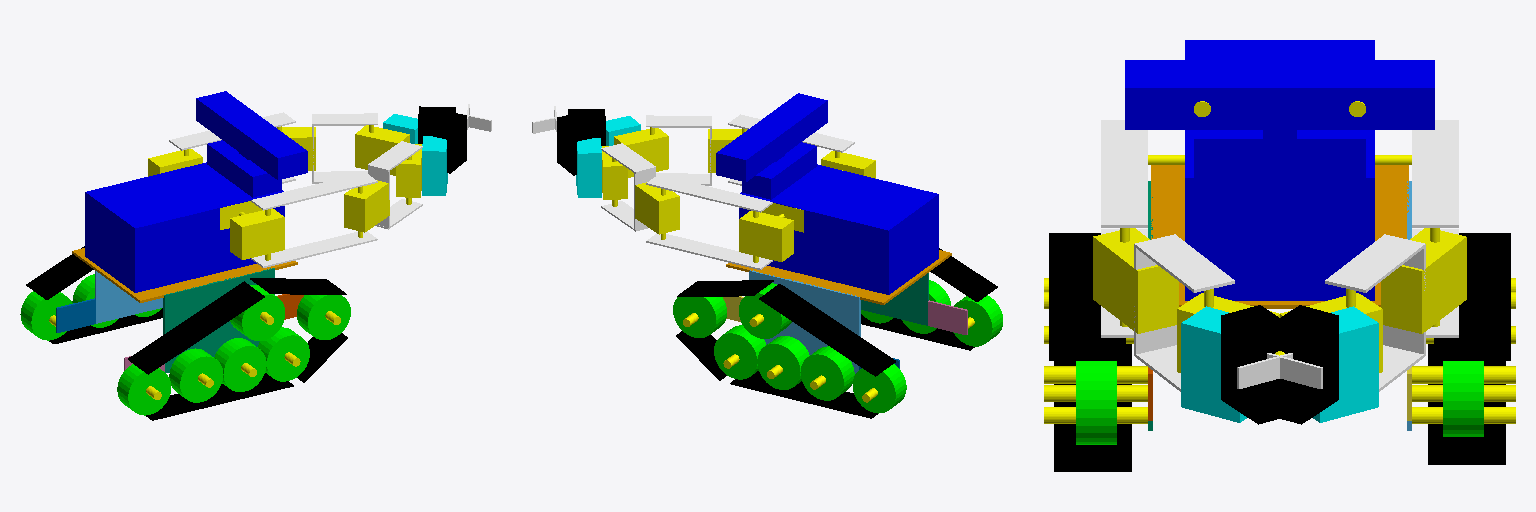
--- Render facts (derived) ---
Views: 3 orthographic renders of the robot side by side, from view 1: azimuth 30°, elevation 25°; view 2: azimuth 150°, elevation 25°; view 3: azimuth 270°, elevation 25°.
Robot: diego1 — 83 links, 82 joints (10 revolute, 12 continuous, 60 fixed); root link base_link; default pose: all joints at 0.
Links seen in each view (by area): view 1: body, xtion_camera, caterpilar_right2, right_leg, right_shoulder_stevo_lift, xtion_camera_base, tyer_slave4_right, tyer_slave3_right, tyer_slave5_right, tyer_slave1_right, right_arm_stevo, tyer_slave2_right (+25 smaller); view 2: body, xtion_camera, caterpilar_left2, left_leg, left_shoulder_stevo_lift, xtion_camera_base, tyer_slave4_left, tyer_slave3_left, left_arm_stevo, tyer_slave2_left, tyer_slave5_left, base_link (+25 smaller); view 3: body, xtion_camera, xtion_camera_base, right_arm_stevo, left_arm_stevo, caterpilar_left1, caterpilar_right1, base_link, left_hand_run_stevo, right_hand_run_stevo, left_big_arm_up, right_big_arm_up (+28 smaller).
Boxes of the visible links, bbox=[...] form: body: bbox=[85, 162, 284, 292]; xtion_camera: bbox=[196, 91, 307, 179]; caterpilar_right2: bbox=[128, 281, 264, 374]; right_leg: bbox=[163, 268, 274, 372]; right_shoulder_stevo_lift: bbox=[230, 208, 284, 259]; xtion_camera_base: bbox=[207, 140, 281, 197]; tyer_slave4_right: bbox=[169, 348, 222, 402]; tyer_slave3_right: bbox=[214, 338, 266, 391]; tyer_slave5_right: bbox=[117, 364, 170, 415]; tyer_slave1_right: bbox=[297, 295, 350, 339]; right_arm_stevo: bbox=[344, 180, 389, 232]; tyer_slave2_right: bbox=[258, 327, 309, 381]; body: bbox=[739, 164, 938, 294]; xtion_camera: bbox=[716, 93, 827, 181]; caterpilar_left2: bbox=[759, 284, 895, 376]; left_leg: bbox=[749, 270, 860, 373]; left_shoulder_stevo_lift: bbox=[739, 211, 793, 261]; xtion_camera_base: bbox=[742, 142, 816, 199]; tyer_slave4_left: bbox=[801, 346, 854, 400]; tyer_slave3_left: bbox=[757, 336, 809, 389]; left_arm_stevo: bbox=[635, 182, 679, 234]; tyer_slave2_left: bbox=[714, 325, 765, 379]; tyer_slave5_left: bbox=[853, 364, 906, 413]; base_link: bbox=[726, 250, 951, 304]; body: bbox=[1185, 40, 1374, 300]; xtion_camera: bbox=[1125, 60, 1434, 129]; xtion_camera_base: bbox=[1194, 130, 1365, 177]; right_arm_stevo: bbox=[1093, 228, 1178, 333]; left_arm_stevo: bbox=[1381, 228, 1466, 333]; caterpilar_left1: bbox=[1434, 250, 1510, 360]; caterpilar_right1: bbox=[1049, 250, 1125, 360]; base_link: bbox=[1151, 165, 1408, 308]; left_hand_run_stevo: bbox=[1221, 305, 1296, 424]; right_hand_run_stevo: bbox=[1280, 305, 1338, 424]; left_big_arm_up: bbox=[1412, 120, 1458, 227]; right_big_arm_up: bbox=[1101, 120, 1147, 227].
Size in the robot's own frame: 0.5162 by 0.273 by 0.2598 metres.
Geometry: primitives only (box / cylinder / sphere), no mesh files.

robot.urdf — diego1:
<?xml version="1.0"?>
<robot name="diego1">
<!-- base_link -->
  <link name="base_link">
    <visual>
      <geometry>
        <box size="0.20 .15 .003"/>
      </geometry>
    </visual>
  </link>

<!-- left_leg -->
<link name="left_leg"> 
    <visual>
      <geometry>
        <box size="0.14 .003 .095"/>
      </geometry>
     </visual>
  </link>

  <joint name="base_to_left_leg" type="fixed"> 
    <parent link="base_link"/>
    <child link="left_leg"/>
    <origin xyz="0.0 0.075 -0.046"/> 
  </joint>

<!-- right_leg -->
  <link name="right_leg"> 
    <visual>
      <geometry>
        <box size="0.14 .003 .095"/>
      </geometry>
     </visual>
  </link>

  <joint name="base_to_right_leg" type="fixed">
    <parent link="base_link"/>
    <child link="right_leg"/>
    <origin xyz="0.0 -0.075 -0.046"/> 
  </joint>  

<!-- leg_fix_dd -->
  <link name="left_leg_front">
    <visual>
      <geometry>
        <box size="0.05 .003 .03"/>
      </geometry>
     </visual>
  </link>

  <joint name="base_to_left_leg_front" type="fixed">
    <parent link="left_leg"/>
    <child link="left_leg_front"/>
    <origin xyz="0.095 0.0 -0.0025"/>
  </joint>

  <link name="left_leg_back">
    <visual>
      <geometry>
        <box size="0.05 .003 .03"/>
      </geometry>
     </visual>
  </link>

  <joint name="base_to_left_leg_back" type="fixed">
    <parent link="left_leg"/>
    <child link="left_leg_back"/>
    <origin xyz="-0.095 0.0 -0.0325"/>
  </joint>

  <link name="right_leg_front">
    <visual>
      <geometry>
        <box size="0.05 .003 .03"/>
      </geometry>
     </visual>
  </link>

  <joint name="base_to_right_leg_front" type="fixed">
    <parent link="right_leg"/>
    <child link="right_leg_front"/>
    <origin xyz="0.095 0.0 -0.0025"/>
  </joint>

  <link name="right_leg_back">
    <visual>
      <geometry>
        <box size="0.05 .003 .03"/>
      </geometry>
     </visual>
  </link>

  <joint name="base_to_right_leg_back" type="fixed">
    <parent link="right_leg"/>
    <child link="right_leg_back"/>
    <origin xyz="-0.095 0.0 -0.0325"/>
  </joint>


<!-- master_right_axis -->
 <link name="tyer_master_right_axis">
    <visual>
      <geometry>
       <cylinder length=".06" radius="0.005"></cylinder>
      </geometry>
      <material name="yellow">
          <color rgba="1 1 0 1"/>
      </material>  
    </visual>
  </link>

  <joint name="right_leg_to_master_right_axix" type="fixed">
    <axis xyz="0 0 1"/> 
    <parent link="right_leg"/>
    <child link="tyer_master_right_axis"/>
    <origin rpy="1.57075 0 0" xyz="0.03 -0.0315 0.0175"/>
    <limit effort="100" velocity="100"/> 
    <joint_properties damping="0.0" friction="0.0"/>
  </joint>

<!-- master_left_axis -->
  <link name="tyer_master_left_axis">
    <visual>
      <geometry>
       <cylinder length=".06" radius="0.005"></cylinder>
      </geometry>
      <material name="yellow">
          <color rgba="1 1 0 1"/>
      </material>  
    </visual>
  </link>

  <joint name="left_leg_to_master_left_axis" type="fixed">
    <axis xyz="0 0 1"/> 
    <parent link="left_leg"/>
    <child link="tyer_master_left_axis"/>
    <origin rpy="1.57075 0 0" xyz="0.03 0.0315 0.0175"/>
    <limit effort="100" velocity="100"/> 
    <joint_properties damping="0.0" friction="0.0"/>
  </joint>

<!-- master_right_motor -->
 <link name="tyer_master_right_motor">
    <visual>
      <geometry>
       <cylinder length=".068" radius="0.0075"></cylinder>
      </geometry>
      <material name="black">
          <color rgba="0 0 0 1"/>
      </material>  
    </visual>
  </link>

  <joint name="right_leg_to_master_right_motor" type="fixed">
    <axis xyz="0 0 1"/> 
    <parent link="right_leg"/>
    <child link="tyer_master_right_motor"/>
    <origin rpy="1.57075 0 0" xyz="0.03 0.0315 0.0175"/>
    <limit effort="100" velocity="100"/> 
    <joint_properties damping="0.0" friction="0.0"/>
  </joint>

<!-- master_left_motor -->
  <link name="tyer_master_left_motor">
    <visual>
      <geometry>
       <cylinder length=".06" radius="0.0075"></cylinder>
      </geometry>
      <material name="black">
          <color rgba="0 0 0 1"/>
      </material>  
    </visual>
  </link>

  <joint name="left_leg_to_master_left_motor" type="fixed">
    <axis xyz="0 0 1"/> 
    <parent link="left_leg"/>
    <child link="tyer_master_left_motor"/>
    <origin rpy="1.57075 0 0" xyz="0.03 -0.0315 0.0175"/>
    <limit effort="100" velocity="100"/> 
    <joint_properties damping="0.0" friction="0.0"/>
  </joint>


<link name="tyer_slave_right_axis1">
    <visual>
      <geometry>
       <cylinder length=".06" radius="0.005"></cylinder>
      </geometry>
      <material name="yellow">
          <color rgba="1 1 0 1"/>
      </material>  
    </visual>
  </link>

  <joint name="right_leg_to_slave_right_axix1" type="continuous">
    <axis xyz="0 0 1"/> 
    <parent link="right_leg_front"/>
    <child link="tyer_slave_right_axis1"/>
    <origin rpy="1.57075 0 0" xyz="0.02 -0.0315 0.0"/>
    <limit effort="100" velocity="100"/> 
    <joint_properties damping="0.0" friction="0.0"/>
  </joint>

  <link name="tyer_slave_right_axis2">
    <visual>
      <geometry>
       <cylinder length=".06" radius="0.005"></cylinder>
      </geometry>
      <material name="yellow">
          <color rgba="1 1 0 1"/>
      </material>  
    </visual>
  </link>

  <joint name="right_leg_to_slave_right_axix2" type="continuous">
    <axis xyz="0 0 1"/> 
    <parent link="right_leg"/>
    <child link="tyer_slave_right_axis2"/>
    <origin rpy="1.57075 0 0" xyz="0.063 -0.0315 -0.0405"/>
    <limit effort="100" velocity="100"/> 
    <joint_properties damping="0.0" friction="0.0"/>
  </joint>

  <link name="tyer_slave_right_axis3">
    <visual>
      <geometry>
       <cylinder length=".06" radius="0.005"></cylinder>
      </geometry>
      <material name="yellow">
          <color rgba="1 1 0 1"/>
      </material>  
    </visual>
  </link>

  <joint name="right_leg_to_slave_right_axix3" type="continuous">
    <axis xyz="0 0 1"/> 
    <parent link="right_leg"/>
    <child link="tyer_slave_right_axis3"/>
    <origin rpy="1.57075 0 0" xyz="0.008 -0.0315 -0.0405"/>
    <limit effort="100" velocity="100"/> 
    <joint_properties damping="0.0" friction="0.0"/>
  </joint>

  <link name="tyer_slave_right_axis4">
    <visual>
      <geometry>
       <cylinder length=".06" radius="0.005"></cylinder>
      </geometry>
      <material name="yellow">
          <color rgba="1 1 0 1"/>
      </material>  
    </visual>
  </link>

  <joint name="right_leg_to_slave_right_axix4" type="continuous">
    <axis xyz="0 0 1"/> 
    <parent link="right_leg"/>
    <child link="tyer_slave_right_axis4"/>
    <origin rpy="1.57075 0 0" xyz="-0.047 -0.0315 -0.0405"/>
    <limit effort="100" velocity="100"/> 
    <joint_properties damping="0.0" friction="0.0"/>
  </joint>  

  <link name="tyer_slave_right_axis5">
    <visual>
      <geometry>
       <cylinder length=".06" radius="0.005"></cylinder>
      </geometry>
      <material name="yellow">
          <color rgba="1 1 0 1"/>
      </material>  
    </visual>
  </link>

  <joint name="right_leg_to_slave_right_axix5" type="continuous">
    <axis xyz="0 0 1"/> 
    <parent link="right_leg_back"/>
    <child link="tyer_slave_right_axis5"/>
    <origin rpy="1.57075 0 0" xyz="-0.018 -0.0315 -0.008"/>
    <limit effort="100" velocity="100"/> 
    <joint_properties damping="0.0" friction="0.0"/>
  </joint>    

  <link name="tyer_slave_left_axis1">
    <visual>
      <geometry>
       <cylinder length=".06" radius="0.005"></cylinder>
      </geometry>
      <material name="yellow">
          <color rgba="1 1 0 1"/>
      </material>  
    </visual>
  </link>

  <joint name="right_leg_to_slave_left_axix1" type="continuous">
    <axis xyz="0 0 1"/> 
    <parent link="left_leg_front"/>
    <child link="tyer_slave_left_axis1"/>
    <origin rpy="1.57075 0 0" xyz="0.02 0.0315 0.0"/>
    <limit effort="100" velocity="100"/> 
    <joint_properties damping="0.0" friction="0.0"/>
  </joint>

  <link name="tyer_slave_left_axis2">
    <visual>
      <geometry>
       <cylinder length=".06" radius="0.005"></cylinder>
      </geometry>
      <material name="yellow">
          <color rgba="1 1 0 1"/>
      </material>  
    </visual>
  </link>

  <joint name="right_leg_to_slave_left_axix2" type="continuous">
    <axis xyz="0 0 1"/> 
    <parent link="left_leg"/>
    <child link="tyer_slave_left_axis2"/>
    <origin rpy="1.57075 0 0" xyz="0.063 0.0315 -0.0405"/>
    <limit effort="100" velocity="100"/> 
    <joint_properties damping="0.0" friction="0.0"/>
  </joint>

  <link name="tyer_slave_left_axis3">
    <visual>
      <geometry>
       <cylinder length=".06" radius="0.005"></cylinder>
      </geometry>
      <material name="yellow">
          <color rgba="1 1 0 1"/>
      </material>  
    </visual>
  </link>

  <joint name="right_leg_to_slave_left_axix3" type="continuous">
    <axis xyz="0 0 1"/> 
    <parent link="left_leg"/>
    <child link="tyer_slave_left_axis3"/>
    <origin rpy="1.57075 0 0" xyz="0.008 0.0315 -0.0405"/>
    <limit effort="100" velocity="100"/> 
    <joint_properties damping="0.0" friction="0.0"/>
  </joint>

  <link name="tyer_slave_left_axis4">
    <visual>
      <geometry>
       <cylinder length=".06" radius="0.005"></cylinder>
      </geometry>
      <material name="yellow">
          <color rgba="1 1 0 1"/>
      </material>  
    </visual>
  </link>

  <joint name="right_leg_to_slave_left_axix4" type="continuous">
    <axis xyz="0 0 1"/> 
    <parent link="left_leg"/>
    <child link="tyer_slave_left_axis4"/>
    <origin rpy="1.57075 0 0" xyz="-0.047 0.0315 -0.0405"/>
    <limit effort="100" velocity="100"/> 
    <joint_properties damping="0.0" friction="0.0"/>
  </joint>    

  <link name="tyer_slave_left_axis5">
    <visual>
      <geometry>
       <cylinder length=".06" radius="0.005"></cylinder>
      </geometry>
      <material name="yellow">
          <color rgba="1 1 0 1"/>
      </material>  
    </visual>
  </link>

  <joint name="right_leg_to_slave_left_axix5" type="continuous">
    <axis xyz="0 0 1"/> 
    <parent link="left_leg_back"/>
    <child link="tyer_slave_left_axis5"/>
    <origin rpy="1.57075 0 0" xyz="-0.018 0.0315 -0.008"/>
    <limit effort="100" velocity="100"/> 
    <joint_properties damping="0.0" friction="0.0"/>
  </joint>  



  <link name="tyer_master_left">
    <visual>
      <geometry>
       <cylinder length=".03" radius="0.0275"></cylinder>
      </geometry>
      <material name="green">
          <color rgba="0 1 0 1"/>
      </material>  
    </visual>
  </link>

  <joint name="right_leg_to_master_left" type="fixed">
    <axis xyz="0 0 1"/> 
    <parent link="tyer_master_left_axis"/>
    <child link="tyer_master_left"/>
    <origin rpy="0 0 0" xyz="0.0 0.0025 0.00"/>
    <limit effort="100" velocity="100"/> 
    <joint_properties damping="0.0" friction="0.0"/>
  </joint>  

  <link name="tyer_master_right">
    <visual>
      <geometry>
       <cylinder length=".03" radius="0.0275"></cylinder>
      </geometry>
      <material name="green">
          <color rgba="0 1 0 1"/>
      </material>  
    </visual>
  </link>

  <joint name="right_leg_to_master_right" type="fixed">
    <axis xyz="0 0 1"/> 
    <parent link="tyer_master_right_axis"/>
    <child link="tyer_master_right"/>
    <origin rpy="0 0 0" xyz="0.0 -0.0025 0.00"/>
    <limit effort="100" velocity="100"/> 
    <joint_properties damping="0.0" friction="0.0"/>
  </joint>



 <link name="tyer_slave1_left">
    <visual>
      <geometry>
       <cylinder length=".024" radius="0.0275"></cylinder>
      </geometry>
      <material name="green">
          <color rgba="0 1 0 1"/>
      </material>  
    </visual>
  </link>

  <joint name="right_leg_to_slave1_left" type="fixed">
    <axis xyz="0 0 1"/> 
    <parent link="tyer_slave_left_axis1"/>
    <child link="tyer_slave1_left"/>
    <origin rpy="0 0 0" xyz="0.0 0.0025 0.00"/>
    <limit effort="100" velocity="100"/> 
    <joint_properties damping="0.0" friction="0.0"/>
  </joint>         

  <link name="tyer_slave2_left">
    <visual>
      <geometry>
       <cylinder length=".024" radius="0.0275"></cylinder>
      </geometry>
      <material name="green">
          <color rgba="0 1 0 1"/>
      </material>  
    </visual>
  </link>

  <joint name="right_leg_to_slave2_left" type="fixed">
    <axis xyz="0 0 1"/> 
    <parent link="tyer_slave_left_axis2"/>
    <child link="tyer_slave2_left"/>
    <origin rpy="0 0 0" xyz="0.0 0.0025 0.00"/>
    <limit effort="100" velocity="100"/> 
    <joint_properties damping="0.0" friction="0.0"/>
  </joint>  

  <link name="tyer_slave3_left">
    <visual>
      <geometry>
       <cylinder length=".024" radius="0.0275"></cylinder>
      </geometry>
      <material name="green">
          <color rgba="0 1 0 1"/>
      </material>  
    </visual>
  </link>

  <joint name="right_leg_to_slave3_left" type="fixed">
    <axis xyz="0 0 1"/> 
    <parent link="tyer_slave_left_axis3"/>
    <child link="tyer_slave3_left"/>
    <origin rpy="0 0 0" xyz="0.0 0.0025 0.00"/>
    <limit effort="100" velocity="100"/> 
    <joint_properties damping="0.0" friction="0.0"/>
  </joint>   

  <link name="tyer_slave4_left">
    <visual>
      <geometry>
       <cylinder length=".024" radius="0.0275"></cylinder>
      </geometry>
      <material name="green">
          <color rgba="0 1 0 1"/>
      </material>  
    </visual>
  </link>

  <joint name="right_leg_to_slave4_left" type="fixed">
    <axis xyz="0 0 1"/> 
    <parent link="tyer_slave_left_axis4"/>
    <child link="tyer_slave4_left"/>
    <origin rpy="0 0 0" xyz="0.0 0.0025 0.00"/>
    <limit effort="100" velocity="100"/> 
    <joint_properties damping="0.0" friction="0.0"/>
  </joint>    

  <link name="tyer_slave5_left">
    <visual>
      <geometry>
       <cylinder length=".024" radius="0.0275"></cylinder>
      </geometry>
      <material name="green">
          <color rgba="0 1 0 1"/>
      </material>  
    </visual>
  </link>

  <joint name="right_leg_to_slave5_left" type="fixed">
    <axis xyz="0 0 1"/> 
    <parent link="tyer_slave_left_axis5"/>
    <child link="tyer_slave5_left"/>
    <origin rpy="0 0 0" xyz="0.0 0.0025 0.00"/>
    <limit effort="100" velocity="100"/> 
    <joint_properties damping="0.0" friction="0.0"/>
  </joint>           

  <link name="tyer_slave1_right">
    <visual>
      <geometry>
       <cylinder length=".024" radius="0.0275"></cylinder>
      </geometry>
      <material name="green">
          <color rgba="0 1 0 1"/>
      </material>  
    </visual>
  </link>

  <joint name="right_leg_to_slave1_right" type="fixed">
    <axis xyz="0 0 1"/> 
    <parent link="tyer_slave_right_axis1"/>
    <child link="tyer_slave1_right"/>
    <origin rpy="0 0 0" xyz="0.0 -0.0025 0.00"/>
    <limit effort="100" velocity="100"/> 
    <joint_properties damping="0.0" friction="0.0"/>
  </joint>   

  <link name="tyer_slave2_right">
    <visual>
      <geometry>
       <cylinder length=".024" radius="0.0275"></cylinder>
      </geometry>
      <material name="green">
          <color rgba="0 1 0 1"/>
      </material>  
    </visual>
  </link>

  <joint name="right_leg_to_slave2_right" type="fixed">
    <axis xyz="0 0 1"/> 
    <parent link="tyer_slave_right_axis2"/>
    <child link="tyer_slave2_right"/>
    <origin rpy="0 0 0" xyz="0.0 -0.0025 0.00"/>
    <limit effort="100" velocity="100"/> 
    <joint_properties damping="0.0" friction="0.0"/>
  </joint>      


  <link name="tyer_slave3_right">
    <visual>
      <geometry>
       <cylinder length=".024" radius="0.0275"></cylinder>
      </geometry>
      <material name="green">
          <color rgba="0 1 0 1"/>
      </material>  
    </visual>
  </link>

  <joint name="right_leg_to_slave3_right" type="fixed">
    <axis xyz="0 0 1"/> 
    <parent link="tyer_slave_right_axis3"/>
    <child link="tyer_slave3_right"/>
    <origin rpy="0 0 0" xyz="0.0 -0.0025 0.00"/>
    <limit effort="100" velocity="100"/> 
    <joint_properties damping="0.0" friction="0.0"/>
  </joint>   

  <link name="tyer_slave4_right">
    <visual>
      <geometry>
       <cylinder length=".024" radius="0.0275"></cylinder>
      </geometry>
      <material name="green">
          <color rgba="0 1 0 1"/>
      </material>  
    </visual>
  </link>

  <joint name="right_leg_to_slave4_right" type="fixed">
    <axis xyz="0 0 1"/> 
    <parent link="tyer_slave_right_axis4"/>
    <child link="tyer_slave4_right"/>
    <origin rpy="0 0 0" xyz="0.0 -0.0025 0.00"/>
    <limit effort="100" velocity="100"/> 
    <joint_properties damping="0.0" friction="0.0"/>
  </joint>    

  <link name="tyer_slave5_right">
    <visual>
      <geometry>
       <cylinder length=".024" radius="0.0275"></cylinder>
      </geometry>
      <material name="green">
          <color rgba="0 1 0 1"/>
      </material>  
    </visual>
  </link>

  <joint name="right_leg_to_slave5_right" type="fixed">
    <axis xyz="0 0 1"/> 
    <parent link="tyer_slave_right_axis5"/>
    <child link="tyer_slave5_right"/>
    <origin rpy="0 0 0" xyz="0.0 -0.0025 0.00"/>
    <limit effort="100" velocity="100"/> 
    <joint_properties damping="0.0" friction="0.0"/>
  </joint>    


 <link name="caterpilar_left1">
    <visual>
      <geometry>
       <box size="0.10 .045 .0015"/>
      </geometry>
      <material name="black">
          <color rgba="0 0 0 1"/>
      </material>  
    </visual>
  </link>    

  <joint name="tyer_master_left_motor_to_caterpilar_left1" type="fixed">
    <parent link="tyer_master_left_motor"/>
    <child link="caterpilar_left1"/>
    <origin rpy="1.57075 0 -0.24178" xyz="0.05 0.02 -0.068"/>
    <limit effort="100" velocity="100"/> 
    <joint_properties damping="0.0" friction="0.0"/>
  </joint>  

  <link name="caterpilar_left2">
    <visual>
      <geometry>
       <box size="0.16 .045 .0015"/>
      </geometry>
      <material name="black">
          <color rgba="0 0 0 1"/>
      </material>  
    </visual>
  </link>    

  <joint name="tyer_master_left_motor_to_caterpilar_left2" type="fixed">
    <parent link="tyer_master_left_motor"/>
    <child link="caterpilar_left2"/>
    <origin rpy="1.57075 0 0.38178" xyz="-0.080 -0.00 -0.068"/>
    <limit effort="100" velocity="100"/> 
    <joint_properties damping="0.0" friction="0.0"/>
  </joint>    

  <link name="caterpilar_left3">
    <visual>
      <geometry>
       <box size="0.07 .045 .0015"/>
      </geometry>
      <material name="black">
          <color rgba="0 0 0 1"/>
      </material>  
    </visual>
  </link>    

  <joint name="tyer_master_left_motor_to_caterpilar_left3" type="fixed">
    <parent link="tyer_slave2_left"/>
    <child link="caterpilar_left3"/>
    <origin rpy="1.57075 0 0.64178" xyz="0.0405 -0.0065 -0.002"/>
    <limit effort="100" velocity="100"/> 
    <joint_properties damping="0.0" friction="0.0"/>
  </joint>  

  <link name="caterpilar_left4">
    <visual>
      <geometry>
       <box size="0.18 .045 .0015"/>
      </geometry>
      <material name="black">
          <color rgba="0 0 0 1"/>
      </material>  
    </visual>
  </link>    

  <joint name="tyer_master_left_motor_to_caterpilar_left4" type="fixed">
    <parent link="tyer_slave2_left"/>
    <child link="caterpilar_left4"/>
    <origin rpy="1.57075 0 0" xyz="-0.09 -0.028 -0.002"/>
    <limit effort="100" velocity="100"/> 
    <joint_properties damping="0.0" friction="0.0"/>
  </joint>    

  <link name="caterpilar_right1">
    <visual>
      <geometry>
       <box size="0.10 .045 .0015"/>
      </geometry>
      <material name="black">
          <color rgba="0 0 0 1"/>
      </material>  
    </visual>
  </link>    

  <joint name="tyer_master_left_motor_to_caterpilar_right1" type="fixed">
    <parent link="tyer_master_right_motor"/>
    <child link="caterpilar_right1"/>
    <origin rpy="1.57075 0 -0.24178" xyz="0.05 0.02 0.068"/>
    <limit effort="100" velocity="100"/> 
    <joint_properties damping="0.0" friction="0.0"/>
  </joint>  

  <link name="caterpilar_right2">
    <visual>
      <geometry>
       <box size="0.16 .045 .0015"/>
      </geometry>
      <material name="black">
          <color rgba="0 0 0 1"/>
      </material>  
    </visual>
  </link>    

  <joint name="tyer_master_left_motor_to_caterpilar_right2" type="fixed">
    <parent link="tyer_master_right_motor"/>
    <child link="caterpilar_right2"/>
    <origin rpy="1.57075 0 0.38178" xyz="-0.080 -0.00 0.068"/>
    <limit effort="100" velocity="100"/> 
    <joint_properties damping="0.0" friction="0.0"/>
  </joint>    

  <link name="caterpilar_right3">
    <visual>
      <geometry>
       <box size="0.07 .045 .0015"/>
      </geometry>
      <material name="black">
          <color rgba="0 0 0 1"/>
      </material>  
    </visual>
  </link>    

  <joint name="tyer_master_left_motor_to_caterpilar_right3" type="fixed">
    <parent link="tyer_slave2_right"/>
    <child link="caterpilar_right3"/>
    <origin rpy="1.57075 0 0.64178" xyz="0.0405 -0.0065 0.002"/>
    <limit effort="100" velocity="100"/> 
    <joint_properties damping="0.0" friction="0.0"/>
  </joint>  

  <link name="caterpilar_right4">
    <visual>
      <geometry>
       <box size="0.18 .045 .0015"/>
      </geometry>
      <material name="black">
          <color rgba="0 0 0 1"/>
      </material>  
    </visual>
  </link>    

  <joint name="tyer_master_left_motor_to_caterpilar_right4" type="fixed">
    <parent link="tyer_slave2_right"/>
    <child link="caterpilar_right4"/>
    <origin rpy="1.57075 0 0" xyz="-0.09 -0.028 0.002"/>
    <limit effort="100" velocity="100"/> 
    <joint_properties damping="0.0" friction="0.0"/>
  </joint>   




  <link name="body">
    <visual>
      <geometry>
       <box size="0.19 .11 .08"/>
      </geometry>
      <material name="blue">
          <color rgba="0 0 255 1"/>
      </material>  
    </visual>
  </link>  

  <joint name="base_to_body" type="fixed">
    <parent link="base_link"/>
    <child link="body"/>
    <origin xyz="0.0 0.0 0.04"/>
  </joint> 




<link name="xtion_camera_base">
    <visual>
      <geometry>
       <box size="0.038 .10 .025"/>
      </geometry>
      <material name="black">
          <color rgba="0 0 1 1"/>
      </material>  
    </visual>
  </link>  

  <joint name="body_to_xtion_camera_base" type="fixed">
    <parent link="body"/>
    <child link="xtion_camera_base"/>
    <origin xyz="0.076 0.0 0.0525"/>
  </joint>

  <link name="xtion_camera_base_neck">
    <visual>
      <geometry>
       <box size="0.020 .020 .020"/>
      </geometry>
      <material name="black">
          <color rgba="0 0 50 1"/>
      </material>  
    </visual>
  </link>  

  <joint name="xtion_camera_base_to_neck" type="fixed">
    <parent link="xtion_camera_base"/>
    <child link="xtion_camera_base_neck"/>
    <origin xyz="0.009 0.0 0.0125"/>
  </joint>   

  <link name="xtion_camera">
    <visual>
      <geometry>
       <box size="0.038 .18 .027"/>
      </geometry>
      <material name="black">
          <color rgba="0 0 1 1"/>
      </material>  
    </visual>
  </link>  

  <joint name="xtion_camera_base_neck_to_camera" type="fixed">
    <parent link="xtion_camera_base_neck"/>
    <child link="xtion_camera"/>
    <origin xyz="0.0 0.0 0.0235"/>
  </joint>      

  <link name="xtion_camera_eye_left">
    <visual>
      <geometry>
       <cylinder length=".002" radius="0.005"></cylinder>
      </geometry>
      <material name="yellow">
          <color rgba="1 1 0 1"/>
      </material>  
    </visual>
  </link>

  <joint name="xtion_camera_to_eye_left" type="fixed">
    <axis xyz="0 0 1"/> 
    <parent link="xtion_camera"/>
    <child link="xtion_camera_eye_left"/>
    <origin rpy="0 1.57075 0" xyz="0.0191 0.045 0.0"/>
    <limit effort="100" velocity="100"/> 
    <joint_properties damping="0.0" friction="0.0"/>
  </joint>   

  <link name="xtion_camera_eye_right">
    <visual>
      <geometry>
       <cylinder length=".002" radius="0.005"></cylinder>
      </geometry>
      <material name="yellow">
          <color rgba="1 1 0 1"/>
      </material>  
    </visual>
  </link>

  <joint name="xtion_camera_to_eye_right" type="fixed">
    <axis xyz="0 0 1"/> 
    <parent link="xtion_camera"/>
    <child link="xtion_camera_eye_right"/>
    <origin rpy="0 1.57075 0" xyz="0.0191 -0.045 0.0"/>
    <limit effort="100" velocity="100"/> 
    <joint_properties damping="0.0" friction="0.0"/>
  </joint>  

<!-- left_shoulder stevo-->
  <link name="left_shoulder_stevo">
    <visual>
      <geometry>
       <box size="0.054 .0403 .027"/>
      </geometry>
      <material name="black">
          <color rgba="1 1 0 1"/>
      </material>  
    </visual>
  </link> 

 <joint name="body_to_left_shoulder_stevo" type="fixed">
    <parent link="body"/>
    <child link="left_shoulder_stevo"/>
    <origin xyz="0.04 0.035 0.026"/>
  </joint>  

  <link name="left_shoulder_stevo_axis">
    <visual>
      <geometry>
       <cylinder length=".04" radius="0.0029"></cylinder>
      </geometry>
      <material name="yellow">
          <color rgba="1 1 0 1"/>
      </material>  
    </visual>
  </link>

  <joint name="left_shoulder_stevo_to_axis" type="revolute">
    <axis xyz="0 0 1"/> 
    <parent link="left_shoulder_stevo"/>
    <child link="left_shoulder_stevo_axis"/>
    <origin rpy="1.57075 0 0" xyz="0.0 0.027 0.0"/>
    <limit effort="100" velocity="100" lower="0" upper="3.1415926"/> 
    <joint_properties damping="0.0" friction="0.0"/>
  </joint>  

  <!-- righ_shoulder stevo 6-->
  <link name="right_shoulder_stevo">
    <visual>
      <geometry>
       <box size="0.054 .0403 .027"/>
      </geometry>
      <material name="black">
          <color rgba="1 1 0 1"/>
      </material>  
    </visual>
  </link> 

 <joint name="body_to_right_shoulder_stevo" type="fixed">
    <parent link="body"/>
    <child link="right_shoulder_stevo"/>
    <origin xyz="0.04 -0.035 0.026"/>
  </joint>  

  <link name="right_shoulder_stevo_axis">
    <visual>
      <geometry>
       <cylinder length=".04" radius="0.0029"></cylinder>
      </geometry>
      <material name="yellow">
          <color rgba="1 1 0 1"/>
      </material>  
    </visual>
  </link>

  <joint name="right_shoulder_stevo_to_axis" type="revolute">
    <axis xyz="0 0 1"/> 
    <parent link="right_shoulder_stevo"/>
    <child link="right_shoulder_stevo_axis"/>
    <origin rpy="1.57075 0 0" xyz="0.0 -0.027 0.0"/>
    <limit effort="100" velocity="100" lower="0" upper="3.1415926"/> 
    <joint_properties damping="0.0" friction="0.0"/>
  </joint> 


 <!-- left_shoulder stevo lift -->
  <link name="left_shoulder_stevo_lift">
    <visual>
      <geometry>
       <box size="0.054 .0403 .027"/>
      </geometry>
      <material name="black">
          <color rgba="1 1 0 1"/>
      </material>  
    </visual>
  </link> 

 <joint name="left_shoulder_stevo_axis_to_lift_stevo" type="fixed">
    <parent link="left_shoulder_stevo_axis"/>
    <child link="left_shoulder_stevo_lift"/>
    <origin xyz="0.0 -0.01015 -0.028"/>
  </joint>

  <link name="left_shoulder_stevo_lift_axis">
    <visual>
      <geometry>
       <cylinder length=".0704" radius="0.0029"></cylinder>
      </geometry>
      <material name="yellow">
          <color rgba="1 1 0 1"/>
      </material>  
    </visual>
  </link>

  <joint name="left_shoulder_stevo_lift_to_axis" type="continuous">
    <axis xyz="0 0 1"/> 
    <parent link="left_shoulder_stevo_lift"/>
    <child link="left_shoulder_stevo_lift_axis"/>
    <origin rpy="1.57075 0 0" xyz="0.0135 0.0 0.0"/>
    <limit effort="100" velocity="100"/> 
    <joint_properties damping="0.0" friction="0.0"/>
  </joint>     

    <!-- right_shoulder stevo lift-->
  <link name="right_shoulder_stevo_lift">
    <visual>
      <geometry>
       <box size="0.054 .0403 .027"/>
      </geometry>
      <material name="black">
          <color rgba="1 1 0 1"/>
      </material>  
    </visual>
  </link> 

 <joint name="right_shoulder_stevo_axis_to_lift_stevo" type="fixed">
    <parent link="right_shoulder_stevo_axis"/>
    <child link="right_shoulder_stevo_lift"/>
    <origin xyz="0.0 -0.01015 0.028"/>
  </joint>

  <link name="right_shoulder_stevo_lift_axis">
    <visual>
      <geometry>
       <cylinder length=".0704" radius="0.0029"></cylinder>
      </geometry>
      <material name="yellow">
          <color rgba="1 1 0 1"/>
      </material>  
    </visual>
  </link>

  <joint name="right_shoulder_stevo_lift_to_axis" type="continuous">
    <axis xyz="0 0 1"/> 
    <parent link="right_shoulder_stevo_lift"/>
    <child link="right_shoulder_stevo_lift_axis"/>
    <origin rpy="1.57075 0 0" xyz="0.0135 0.0 0.0"/>
    <limit effort="100" velocity="100"/> 
    <joint_properties damping="0.0" friction="0.0"/>
  </joint>   



 <!-- left_big arm -->
  <link name="left_big_arm_up">
    <visual>
      <geometry>
       <box size="0.145 .027 .002"/>
      </geometry>
      <material name="sliver">
          <color rgba="223 223 223 1"/>
      </material>  
    </visual>
  </link> 

 <joint name="left_shoulder_stevo_lift_axis_to_left_big_arm" type="fixed">
    <parent link="left_shoulder_stevo_lift_axis"/>
    <child link="left_big_arm_up"/>
    <origin xyz="0.059 0.0 -0.035"/>
  </joint>  

  <link name="left_big_arm_down">
    <visual>
      <geometry>
       <box size="0.145 .027 .002"/>
      </geometry>
      <material name="sliver">
          <color rgba="223 223 223 1"/>
      </material>  
    </visual>
  </link> 

 <joint name="left_big_arm_up_to_left_big_arm_down" type="fixed">
    <parent link="left_big_arm_up"/>
    <child link="left_big_arm_down"/>
    <origin xyz="0.0 0.0 0.07"/>
  </joint>   

    <!-- right_big arm -->
  <link name="right_big_arm_up">
    <visual>
      <geometry>
       <box size="0.145 .027 .002"/>
      </geometry>
      <material name="sliver">
          <color rgba="223 223 223 1"/>
      </material>  
    </visual>
  </link> 

 <joint name="right_shoulder_stevo_lift_axis_to_right_big_arm" type="fixed">
    <parent link="right_shoulder_stevo_lift_axis"/>
    <child link="right_big_arm_up"/>
    <origin xyz="0.059 0.0 -0.035"/>
  </joint>  

  <link name="right_big_arm_down">
    <visual>
      <geometry>
       <box size="0.145 .027 .002"/>
      </geometry>
      <material name="sliver">
          <color rgba="223 223 223 1"/>
      </material>  
    </visual>
  </link> 

 <joint name="right_big_arm_up_to_right_big_arm_down" type="fixed">
    <parent link="right_big_arm_up"/>
    <child link="right_big_arm_down"/>
    <origin xyz="0.0 0.0 0.07"/>
  </joint>     



 <!--left arm stevo-->
  <link name="left_arm_stevo_axis">
    <visual>
      <geometry>
       <cylinder length=".0704" radius="0.0029"></cylinder>
      </geometry>
      <material name="yellow">
          <color rgba="1 1 0 1"/>
      </material>  
    </visual>
  </link>

  <joint name="left_big_arm_up_to_axis" type="revolute">
    <axis xyz="0 0 1"/> 
    <parent link="left_big_arm_up"/>
    <child link="left_arm_stevo_axis"/>
    <origin rpy="0 0 0.5" xyz="0.059 0.0 0.0352"/>
    <limit effort="100" velocity="100" lower="0" upper="3.1415926"/> 
    <joint_properties damping="0.0" friction="0.0"/>
  </joint>  

  <link name="left_arm_stevo">
    <visual>
      <geometry>
       <box size="0.054 .027 .0403"/>
      </geometry>
      <material name="black">
          <color rgba="1 1 0 1"/>
      </material>  
    </visual>
  </link> 

 <joint name="left_big_arm_up_to_axis_to_left_arm_stevo" type="fixed">
    <parent link="left_arm_stevo_axis"/>
    <child link="left_arm_stevo"/>
    <origin xyz="0.0135 0.0 0.0"/>
  </joint>  

  <!--right arm stevo-->
  <link name="right_arm_stevo_axis">
    <visual>
      <geometry>
       <cylinder length=".0704" radius="0.0029"></cylinder>
      </geometry>
      <material name="yellow">
          <color rgba="1 1 0 1"/>
      </material>  
    </visual>
  </link>

  <joint name="right_big_arm_up_to_axis" type="revolute">
    <axis xyz="0 0 1"/> 
    <parent link="right_big_arm_up"/>
    <child link="right_arm_stevo_axis"/>
    <origin rpy="0 0 -0.5" xyz="0.059 0.0 0.0352"/>
    <limit effort="100" velocity="100" lower="0" upper="3.1415926"/> 
    <joint_properties damping="0.0" friction="0.0"/>
  </joint>  

  <link name="right_arm_stevo">
    <visual>
      <geometry>
       <box size="0.054 .027 .0403"/>
      </geometry>
      <material name="black">
          <color rgba="1 1 0 1"/>
      </material>  
    </visual>
  </link> 

 <joint name="right_big_arm_up_to_axis_to_right_arm_stevo" type="fixed">
    <parent link="right_arm_stevo_axis"/>
    <child link="right_arm_stevo"/>
    <origin xyz="0.0135 0.0 0.0"/>
  </joint>    


    <!-- left_small arm -->
  <link name="left_small_arm_up">
    <visual>
      <geometry>
       <box size="0.0725 .027 .002"/>
      </geometry>
      <material name="sliver">
          <color rgba="223 223 223 1"/>
      </material>  
    </visual>
  </link> 

 <joint name="left_arm_stevo_to_left_small_arm_up" type="fixed">
    <parent link="left_arm_stevo"/>
    <child link="left_small_arm_up"/>
    <origin xyz="0.059 0.0 -0.035"/>
  </joint>  

  <link name="left_small_arm_down">
    <visual>
      <geometry>
       <box size="0.0725 .027 .002"/>
      </geometry>
      <material name="sliver">
          <color rgba="223 223 223 1"/>
      </material>  
    </visual>
  </link> 

 <joint name="left_small_arm_up_to_left_small_arm_down" type="fixed">
    <parent link="left_small_arm_up"/>
    <child link="left_small_arm_down"/>
    <origin xyz="0.0 0.0 0.07"/>
  </joint>  

  <link name="left_small_arm_middle">
    <visual>
      <geometry>
       <box size="0.07 .027 .002"/>
      </geometry>
      <material name="sliver">
          <color rgba="223 223 223 1"/>
      </material>  
    </visual>
  </link> 

 <joint name="left_small_arm_up_to_left_small_arm_middle" type="fixed">
    <parent link="left_small_arm_up"/>
    <child link="left_small_arm_middle"/>
    <origin rpy="0 1.57075 0" xyz="-0.035 0.0 0.035"/>
  </joint> 

    <!-- right_small arm -->
  <link name="right_small_arm_up">
    <visual>
      <geometry>
       <box size="0.0725 .027 .002"/>
      </geometry>
      <material name="sliver">
          <color rgba="223 223 223 1"/>
      </material>  
    </visual>
  </link> 

 <joint name="right_arm_stevo_to_right_small_arm_up" type="fixed">
    <parent link="right_arm_stevo"/>
    <child link="right_small_arm_up"/>
    <origin xyz="0.059 0.0 -0.035"/>
  </joint>  

  <link name="right_small_arm_down">
    <visual>
      <geometry>
       <box size="0.0725 .027 .002"/>
      </geometry>
      <material name="sliver">
          <color rgba="223 223 223 1"/>
      </material>  
    </visual>
  </link> 

 <joint name="right_small_arm_up_to_right_small_arm_down" type="fixed">
    <parent link="right_small_arm_up"/>
    <child link="right_small_arm_down"/>
    <origin xyz="0.0 0.0 0.07"/>
  </joint>  

  <link name="right_small_arm_middle">
    <visual>
      <geometry>
       <box size="0.07 .027 .002"/>
      </geometry>
      <material name="sliver">
          <color rgba="223 223 223 1"/>
      </material>  
    </visual>
  </link> 

 <joint name="right_small_arm_up_to_right_small_arm_middle" type="fixed">
    <parent link="right_small_arm_up"/>
    <child link="right_small_arm_middle"/>
    <origin rpy="0 1.57075 0" xyz="-0.035 0.0 0.035"/>
  </joint> 


  <!--left wrist stevo-->
  <link name="left_wrist_stevo_axis">
    <visual>
      <geometry>
       <cylinder length=".0704" radius="0.0029"></cylinder>
      </geometry>
      <material name="yellow">
          <color rgba="1 1 0 1"/>
      </material>  
    </visual>
  </link>

  <joint name="left_small_arm_up_to_axis" type="revolute">
    <axis xyz="0 0 1"/> 
    <parent link="left_small_arm_up"/>
    <child link="left_wrist_stevo_axis"/>
    <origin rpy="0 0 0.5" xyz="0.0295 0.0 0.0352"/>
    <limit effort="100" velocity="100" lower="0" upper="3.1415926"/> 
    <joint_properties damping="0.0" friction="0.0"/>
  </joint>  

  <link name="left_wrist_stevo">
    <visual>
      <geometry>
       <box size="0.054 .027 .0403"/>
      </geometry>
      <material name="black">
          <color rgba="1 1 0 1"/>
      </material>  
    </visual>
  </link> 

 <joint name="left_small_arm_up_to_axis_to_left_axis_stevo" type="fixed">
    <parent link="left_wrist_stevo_axis"/>
    <child link="left_wrist_stevo"/>
    <origin xyz="0.0135 0.0 0.0"/>
  </joint> 

  <!--right wrist stevo-->
  <link name="right_wrist_stevo_axis">
    <visual>
      <geometry>
       <cylinder length=".0704" radius="0.0029"></cylinder>
      </geometry>
      <material name="yellow">
          <color rgba="1 1 0 1"/>
      </material>  
    </visual>
  </link>

  <joint name="right_small_arm_up_to_axis" type="revolute">
    <axis xyz="0 0 1"/> 
    <parent link="right_small_arm_up"/>
    <child link="right_wrist_stevo_axis"/>
    <origin rpy="0 0 -0.5" xyz="0.0295 0.0 0.0352"/>
    <limit effort="100" velocity="100" lower="0" upper="3.1415926"/> 
    <joint_properties damping="0.0" friction="0.0"/>
  </joint>  

  <link name="right_wrist_stevo">
    <visual>
      <geometry>
       <box size="0.054 .027 .0403"/>
      </geometry>
      <material name="black">
          <color rgba="1 1 0 1"/>
      </material>  
    </visual>
  </link> 

 <joint name="right_small_arm_up_to_axis_to_right_axis_stevo" type="fixed">
    <parent link="right_wrist_stevo_axis"/>
    <child link="right_wrist_stevo"/>
    <origin xyz="0.0135 0.0 0.0"/>
  </joint>   


<!--left wrist run stevo-->
  <link name="left_wrist_run_stevo">
    <visual>
      <geometry>
       <box size="0.054 .027 .0403"/>
      </geometry>
      <material name="color1">
          <color rgba="0 255 255 1 "/>
      </material>  
    </visual>
  </link> 

 <joint name="right_wrist_stevo_to_left_wrist_run_stevo" type="fixed">
    <parent link="left_wrist_stevo"/>
    <child link="left_wrist_run_stevo"/>
    <origin rpy="0 1.57075 0" xyz="0.0135 -0.027 0.0"/>
  </joint>   

  <link name="left_wrist_run_stevo_axis">
    <visual>
      <geometry>
       <cylinder length=".04" radius="0.0029"></cylinder>
      </geometry>
      <material name="yellow">
          <color rgba="1 1 0 1"/>
      </material>  
    </visual>
  </link>

  <joint name="left_wrist_run_stevo_to_axis" type="revolute">
    <axis xyz="0 0 1"/> 
    <parent link="left_wrist_run_stevo"/>
    <child link="left_wrist_run_stevo_axis"/>
    <origin rpy="0 0 0" xyz="0.0135 0 0.020"/>
    <limit effort="100" velocity="100" lower="0" upper="3.1415926"/> 
    <joint_properties damping="0.0" friction="0.0"/>
  </joint>     

  <!--right wrist run stevo-->
  <link name="right_wrist_run_stevo">
    <visual>
      <geometry>
       <box size="0.054 .027 .0403"/>
      </geometry>
      <material name="color1">
          <color rgba="0 255 255 1 "/>
      </material>  
    </visual>
  </link> 

 <joint name="right_wrist_stevo_to_right_wrist_run_stevo" type="fixed">
    <parent link="right_wrist_stevo"/>
    <child link="right_wrist_run_stevo"/>
    <origin rpy="0 1.57075 0" xyz="0.0135 0.027 0.0"/>
  </joint>   

  <link name="right_wrist_run_stevo_axis">
    <visual>
      <geometry>
       <cylinder length=".04" radius="0.0029"></cylinder>
      </geometry>
      <material name="yellow">
          <color rgba="1 1 0 1"/>
      </material>  
    </visual>
  </link>

  <joint name="right_wrist_run_stevo_to_axis" type="revolute">
    <axis xyz="0 0 1"/> 
    <parent link="right_wrist_run_stevo"/>
    <child link="right_wrist_run_stevo_axis"/>
    <origin rpy="0 0 0" xyz="0.0135 0 0.020"/>
    <limit effort="100" velocity="100" lower="0" upper="3.1415926"/> 
    <joint_properties damping="0.0" friction="0.0"/>
  </joint>  

  <!--left wrist run stevo-->
  <link name="left_hand_run_stevo">
    <visual>
      <geometry>
       <box size="0.054 .027 .0403"/>
      </geometry>
      <material name="black">
          <color rgba="0 0 0 1 "/>
      </material>  
    </visual>
  </link> 

 <joint name="left_wrist_run_stevo_axis_to_left_hand_run_stevo" type="fixed">
    <parent link="left_wrist_run_stevo_axis"/>
    <child link="left_hand_run_stevo"/>
    <origin rpy="1.57075 0 0" xyz="0.0 0.0 0.0335"/>
  </joint>  

  <link name="left_hand_run_stevo_axis">
    <visual>
      <geometry>
       <cylinder length=".04" radius="0.0029"></cylinder>
      </geometry>
      <material name="yellow">
          <color rgba="1 1 0 1"/>
      </material>  
    </visual>
  </link>

  <joint name="left_hand_run_stevo_to_left_hand_run_stevo" type="revolute">
    <axis xyz="0 0 1"/> 
    <parent link="left_hand_run_stevo"/>
    <child link="left_hand_run_stevo_axis"/>
    <origin rpy="0 0 0" xyz="0.0135 0 0.0135"/>
    <limit effort="100" velocity="100" lower="0" upper="3.1415926"/> 
    <joint_properties damping="0.0" friction="0.0"/>
  </joint>    

  <!--right wrist run stevo-->
  <link name="right_hand_run_stevo">
    <visual>
      <geometry>
       <box size="0.054 .027 .0403"/>
      </geometry>
      <material name="black">
          <color rgba="0 0 0 1 "/>
      </material>  
    </visual>
  </link> 

 <joint name="right_wrist_run_stevo_axis_to_right_hand_run_stevo" type="fixed">
    <parent link="right_wrist_run_stevo_axis"/>
    <child link="right_hand_run_stevo"/>
    <origin rpy="1.57075 0 0" xyz="0.0 0.0 0.0335"/>
  </joint>  

  <link name="right_hand_run_stevo_axis">
    <visual>
      <geometry>
       <cylinder length=".04" radius="0.0029"></cylinder>
      </geometry>
      <material name="yellow">
          <color rgba="1 1 0 1"/>
      </material>  
    </visual>
  </link>

  <joint name="right_hand_run_stevo_to_right_hand_run_stevo" type="revolute">
    <axis xyz="0 0 1"/> 
    <parent link="right_hand_run_stevo"/>
    <child link="right_hand_run_stevo_axis"/>
    <origin rpy="0 0 0" xyz="0.0135 0 -0.0135"/>
    <limit effort="100" velocity="100" lower="0" upper="3.1415926"/> 
    <joint_properties damping="0.0" friction="0.0"/>
  </joint>    



<!--left finger-->
  <link name="left_finger">
    <visual>
      <geometry>
       <box size="0.0375 .0135 .002"/>
      </geometry>
      <material name="sliver">
          <color rgba="223 223 223 1"/>
      </material>  
    </visual>
  </link> 

 <joint name="left_hand_run_stevo_axis_to_left_finger" type="fixed">
    <parent link="left_hand_run_stevo_axis"/>
    <child link="left_finger"/>
    <origin rpy="0 0 1.57075" xyz="0.0 0.0173 0.02"/>
  </joint>   

  <!--right finger-->
  <link name="right_finger">
    <visual>
      <geometry>
       <box size="0.0375 .0135 .002"/>
      </geometry>
      <material name="sliver">
          <color rgba="223 223 223 1"/>
      </material>  
    </visual>
  </link> 

 <joint name="right_hand_run_stevo_axis_to_right_finger" type="fixed">
    <parent link="right_hand_run_stevo_axis"/>
    <child link="right_finger"/>
    <origin rpy="0 0 1.57075" xyz="0.0 0.0173 -0.02"/>
  </joint>  




</robot>
